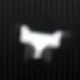plane: (18, 22, 68, 63)
